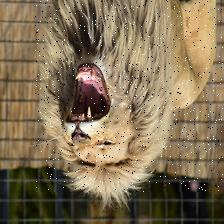Lion: (36, 0, 224, 192)
